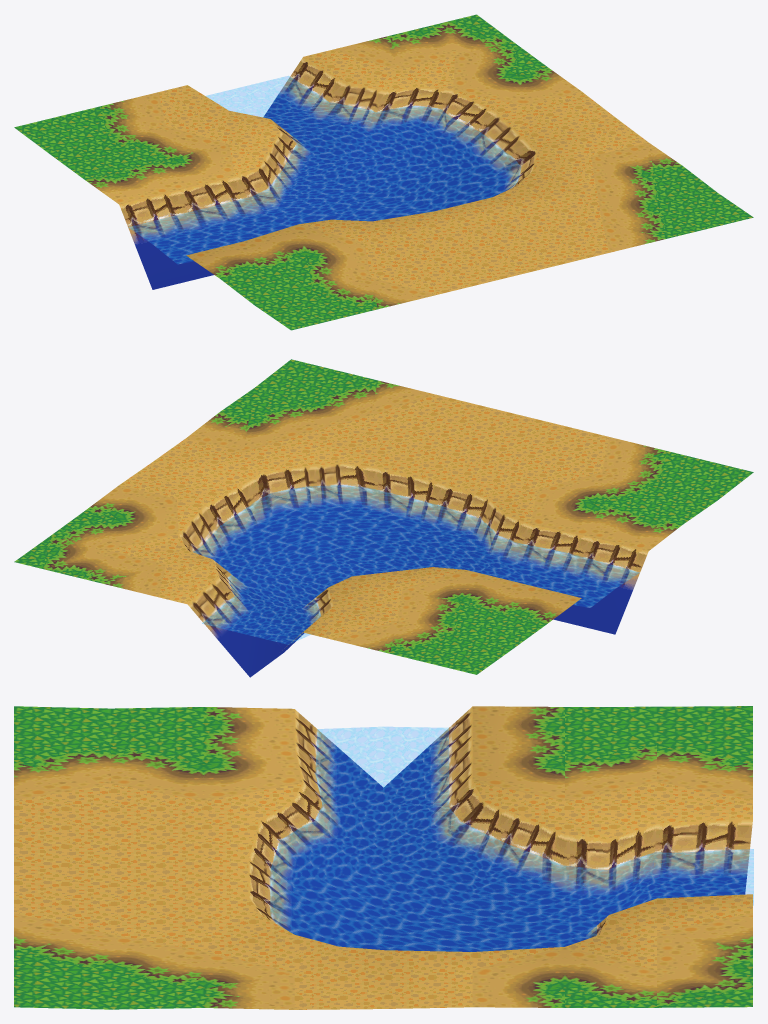
The model's file is c_grd_r6_p_2.001.glb.
3 views of the same model, one above another, from view 1: azimuth 30°, elevation 25°; view 2: azimuth 150°, elevation 25°; view 3: azimuth 270°, elevation 25° (orthographic). The views are drawn at different scales.
Visible parts, largest first — view 1: c_grd_r6_p_2.001; view 2: c_grd_r6_p_2.001; view 3: c_grd_r6_p_2.001.
Boxes of the visible parts, x1,y1,x2,y2 form: c_grd_r6_p_2.001: (14, 14, 753, 330); c_grd_r6_p_2.001: (14, 359, 753, 677); c_grd_r6_p_2.001: (14, 706, 753, 1009).
Size of the model in its own units: 32 by 4.14 by 33.24.
5 materials, 5 textured.
